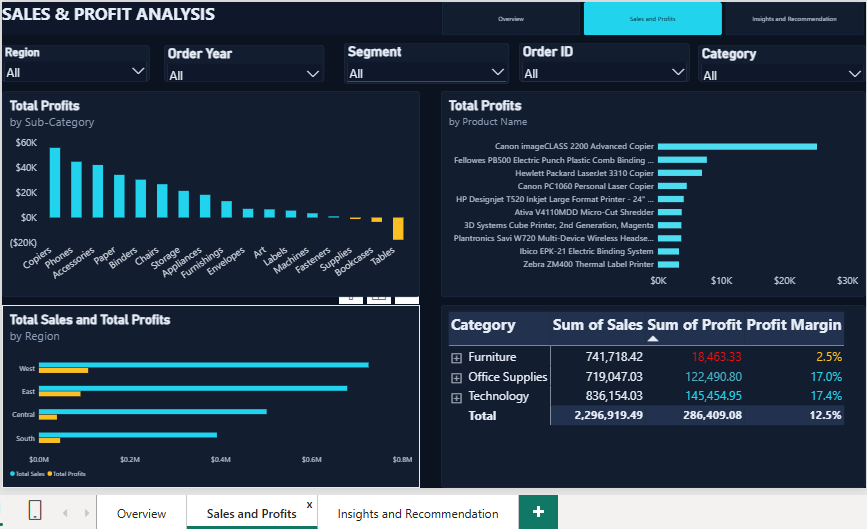

The page's visual inventory and layout, read from the dashboard file:
{"tool":"powerbi","page":{"name":"Sales and Profits","canvas":[1920,1080],"ordinal":1},"visuals":[{"type":"clusteredBarChart","fields":{"Category":["Superstore.Region"],"Y":["Superstore.Total Sales","Superstore.Total Profits"]},"box":[0,673.9,928.8,406.1],"z":0},{"type":"barChart","fields":{"Category":["Superstore.Product Name"],"Y":["Superstore.Total Profits"]},"box":[976.3,198.7,943.9,457.9],"z":1000},{"type":"columnChart","fields":{"Category":["Superstore.Sub-Category"],"Y":["Superstore.Total Profits"]},"box":[0,198.7,928.8,457.9],"z":2000},{"type":"pivotTable","fields":{"Rows":["Superstore.Category","Superstore.Sub-Category"],"Values":["Sum(Superstore.Sales)","Sum(Superstore.Profit)","Superstore.Profit Margin"]},"box":[976.3,673.9,943.9,406.1],"z":3000},{"type":"slicer","fields":{"Values":["Superstore.Region"]},"box":[-2.3,95.3,330.2,81.4],"z":4000},{"type":"slicer","fields":{"Values":["Superstore.Order Year"]},"box":[360.5,95.3,356.4,82.1],"z":5000},{"type":"slicer","fields":{"Values":["Superstore.Segment"]},"box":[760.5,90.7,367.4,90.7],"z":6000},{"type":"slicer","fields":{"Values":["Superstore.Order ID"]},"box":[1148.8,90.7,379.1,86],"z":7000},{"type":"slicer","fields":{"Values":["Superstore.Category"]},"box":[1546.5,95.3,374.4,81.4],"z":8000},{"type":"textbox","box":[0,0,976.7,72.1],"z":8001},{"type":"pageNavigator","box":[976.7,0,939.5,74.4],"z":8002}]}

Visuals, with their boxes on the page's 1920x1080 design canvas (x1, y1, x2, y2). These are canvas units, not pixel positions in the 867x529 screenshot, which may show the page scaled, cropped or inside an application window:
clusteredBarChart - Superstore.Region x Superstore.Total Sales: detection(0, 674, 929, 1080)
barChart - Superstore.Product Name x Superstore.Total Profits: detection(976, 199, 1920, 657)
columnChart - Superstore.Sub-Category x Superstore.Total Profits: detection(0, 199, 929, 657)
pivotTable - Superstore.Category x Superstore.Sub-Category: detection(976, 674, 1920, 1080)
slicer - Superstore.Region: detection(-2, 95, 328, 177)
slicer - Superstore.Order Year: detection(360, 95, 717, 177)
slicer - Superstore.Segment: detection(760, 91, 1128, 181)
slicer - Superstore.Order ID: detection(1149, 91, 1528, 177)
slicer - Superstore.Category: detection(1546, 95, 1921, 177)
textbox: detection(0, 0, 977, 72)
pageNavigator: detection(977, 0, 1916, 74)
